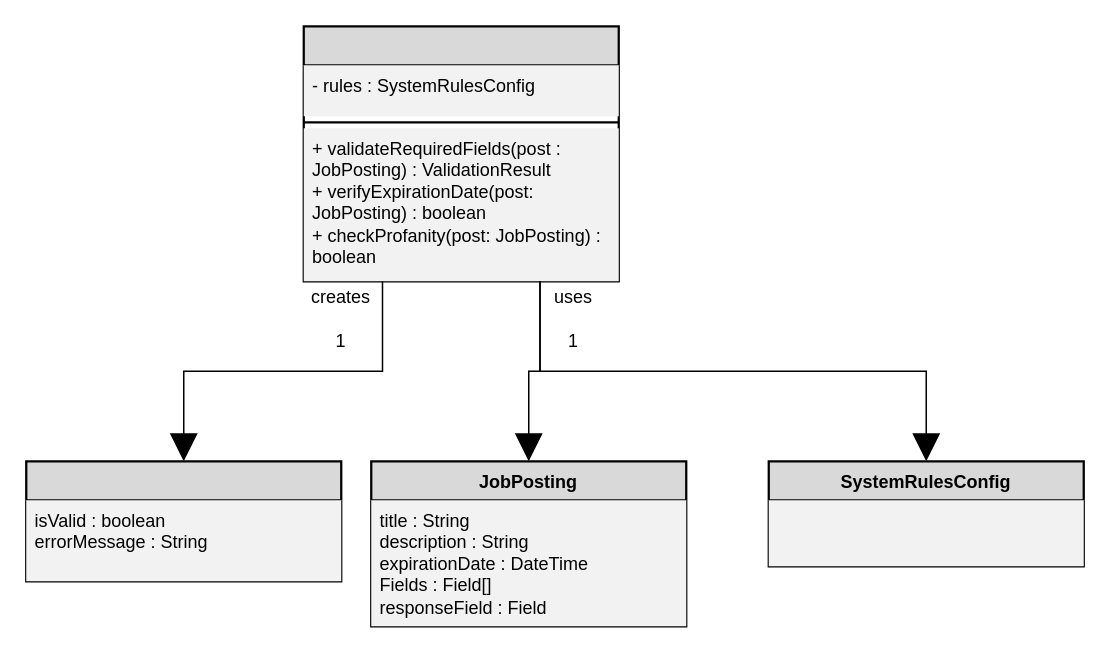
Some shapes in this 1112 by 657 pixel diagram are drawn without their labels. The box of each missing label's shape, as (x1, y1, x2, y2) in pixels:
PostValidator: (302, 24, 619, 282)
restrictedWords requiredFields: (768, 500, 1083, 566)
ValidationResult: (24, 459, 342, 582)
